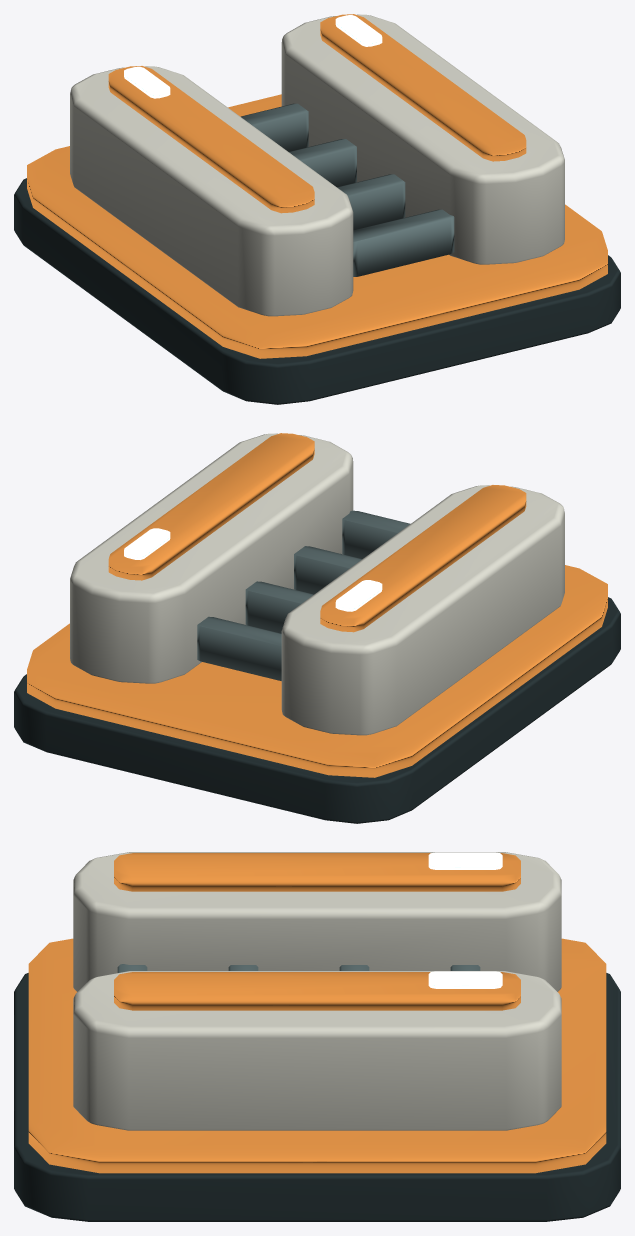
Rendered from module-rail.glb.
3 views of the same model, one above another, from view 1: azimuth 30°, elevation 25°; view 2: azimuth 150°, elevation 25°; view 3: azimuth 270°, elevation 25° (orthographic). The views are drawn at different scales.
Parts seen in each view (by area): view 1: Module_rail_Factory_Ceramic, Module_rail_Team, Module_rail_Factory_Mechanical, Module_rail_Light; view 2: Module_rail_Factory_Ceramic, Module_rail_Team, Module_rail_Factory_Mechanical, Module_rail_Light; view 3: Module_rail_Factory_Ceramic, Module_rail_Team, Module_rail_Factory_Mechanical, Module_rail_Light.
Boxes of the visible parts, x1,y1,x2,y2 form: Module_rail_Factory_Ceramic: [70, 14, 564, 316]; Module_rail_Team: [27, 14, 607, 358]; Module_rail_Factory_Mechanical: [14, 103, 620, 404]; Module_rail_Light: [124, 15, 382, 98]; Module_rail_Factory_Ceramic: [70, 433, 564, 735]; Module_rail_Team: [27, 433, 607, 777]; Module_rail_Factory_Mechanical: [14, 510, 620, 823]; Module_rail_Light: [124, 528, 382, 611]; Module_rail_Factory_Ceramic: [73, 852, 561, 1130]; Module_rail_Team: [28, 853, 606, 1173]; Module_rail_Factory_Mechanical: [14, 964, 620, 1221]; Module_rail_Light: [428, 852, 502, 988].
Size of the model in its own units: 0.7 by 0.293 by 0.82.
